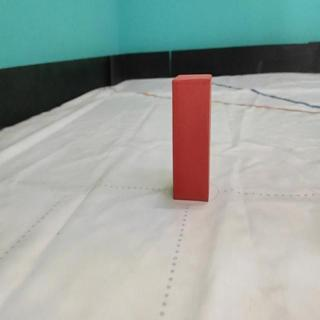redbox: (171, 73, 212, 201)
